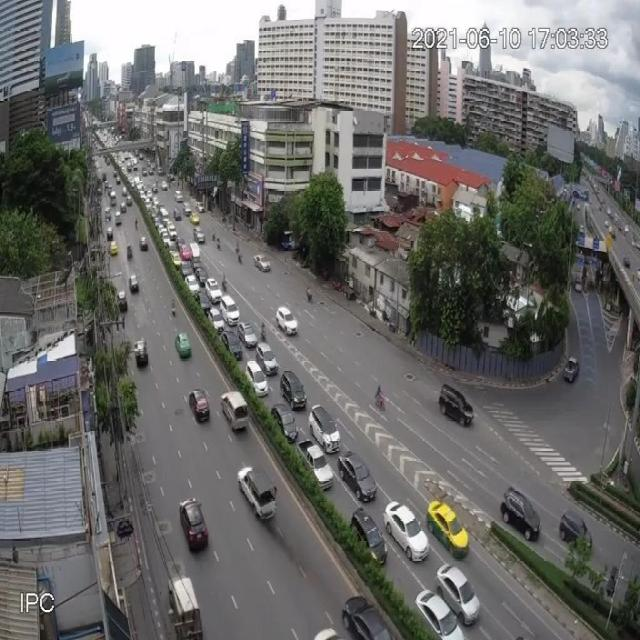Car: (435, 562, 480, 626), (384, 501, 429, 561), (426, 499, 469, 558), (416, 589, 464, 640), (237, 464, 278, 523), (342, 594, 394, 640), (349, 507, 387, 566), (501, 486, 541, 540), (338, 451, 377, 503), (179, 497, 209, 552), (308, 404, 341, 452), (438, 384, 474, 427), (560, 509, 592, 557), (220, 390, 250, 432), (271, 402, 298, 442), (280, 370, 306, 410), (245, 358, 269, 396), (255, 341, 278, 375), (188, 388, 210, 423), (220, 329, 243, 360), (276, 306, 298, 337), (220, 294, 239, 326), (238, 320, 258, 349), (207, 306, 225, 334), (175, 331, 192, 359), (205, 278, 222, 306), (134, 338, 148, 367), (196, 289, 212, 314), (311, 627, 340, 640), (185, 276, 200, 298), (254, 254, 272, 272), (193, 264, 207, 286), (193, 226, 206, 244), (117, 291, 128, 312), (181, 260, 193, 279), (129, 274, 139, 294), (172, 252, 182, 269), (168, 240, 178, 256), (161, 232, 170, 248), (110, 240, 118, 256), (173, 206, 182, 220), (190, 213, 200, 225), (140, 236, 148, 250), (169, 226, 177, 240), (126, 243, 133, 259), (196, 201, 205, 213), (182, 202, 191, 214), (174, 190, 183, 202), (166, 220, 174, 233), (106, 226, 113, 240), (575, 278, 582, 292), (623, 256, 631, 267), (126, 194, 132, 206), (161, 180, 168, 190), (120, 202, 126, 213), (142, 167, 148, 178), (152, 182, 158, 192), (168, 173, 174, 182), (122, 186, 127, 196), (148, 169, 154, 177), (604, 219, 609, 228), (116, 177, 121, 186), (157, 168, 163, 175), (105, 179, 108, 189)
Cycle: (374, 394, 386, 410), (260, 322, 266, 340), (170, 301, 176, 316), (221, 279, 227, 293), (235, 241, 240, 253), (238, 252, 242, 265), (217, 237, 220, 250)
Truck: (298, 439, 334, 491), (563, 357, 579, 382)
Van: (190, 242, 200, 271), (159, 206, 170, 226)
